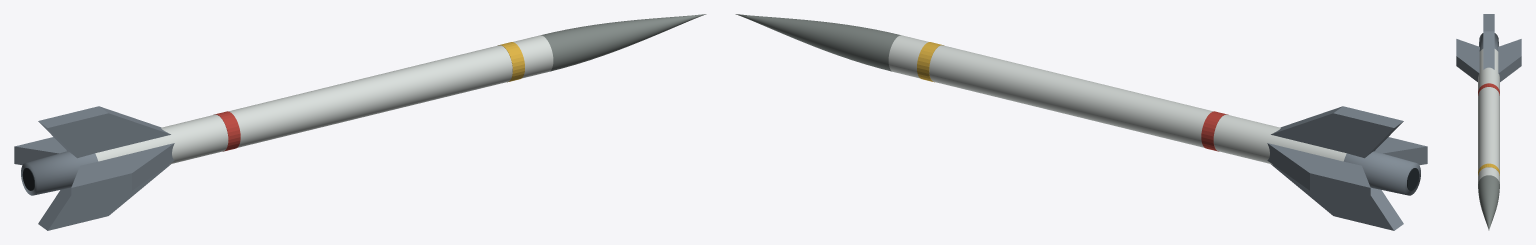
The model's file is mistral_naval.glb.
3 views of the same model, side by side, from view 1: azimuth 30°, elevation 25°; view 2: azimuth 150°, elevation 25°; view 3: azimuth 270°, elevation 25° (orthographic). The views are drawn at different scales.
Parts seen in each view (by area): view 1: mistral_naval; view 2: mistral_naval; view 3: mistral_naval.
Part boxes in pixels (x1,y1,x2,y2): mistral_naval: (14, 14, 706, 230); mistral_naval: (735, 14, 1427, 230); mistral_naval: (1456, 14, 1521, 230).
Bounding box in the file's own units: 10 × 1.45 × 1.45.
